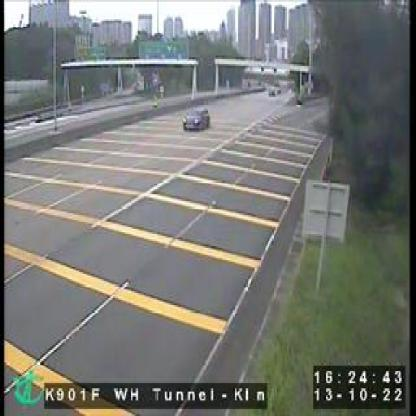Car: (184, 108, 212, 131)
